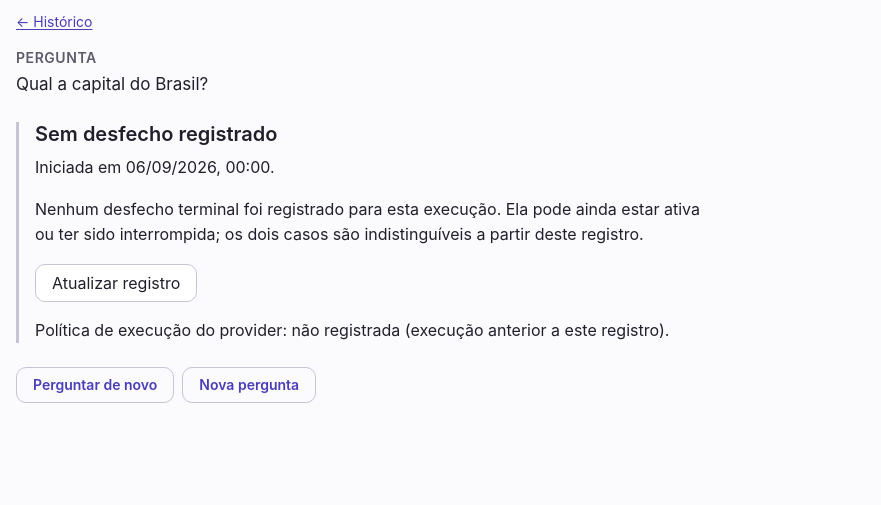
Test: RunDetail › Atualização manual de Run sem desfecho registrado › atualizar faz um NOVO GET e, se a Run ficou terminal, renderiza o detalhe terminal normal
Check: the heading "Sem desfecho registrado" is shown, box [35, 122, 277, 146]
Click the button "Atualizar registro": point(116, 283) [35, 264, 197, 302]
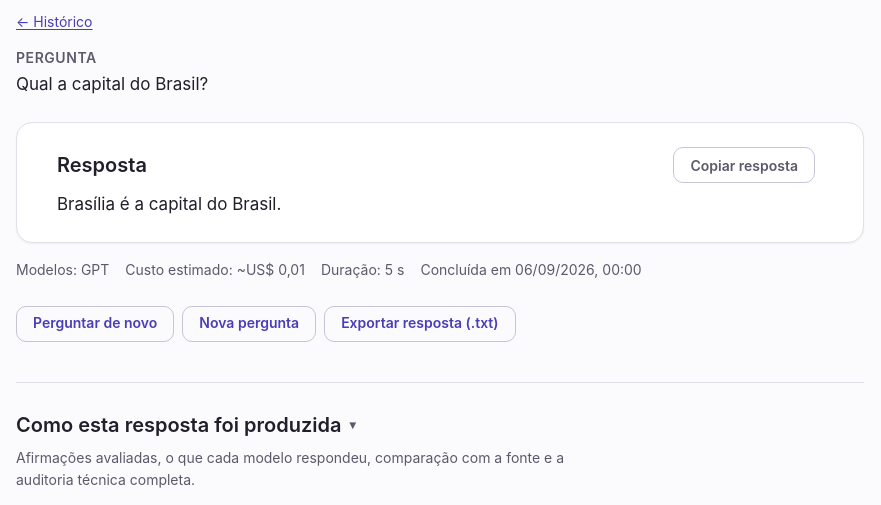
Check: the text "Brasília é a capital do Brasil." is shown, box [57, 194, 281, 214]
Check: the heading "Sem desfecho registrado" is gone
Check: the button "Atualizar registro" is gone
